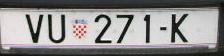-: (159, 27, 166, 30)
1: (144, 14, 150, 42)
2: (95, 14, 112, 43)
7: (116, 15, 133, 43)
K: (171, 14, 188, 43)
U: (48, 13, 65, 43)
V: (25, 14, 43, 43)
